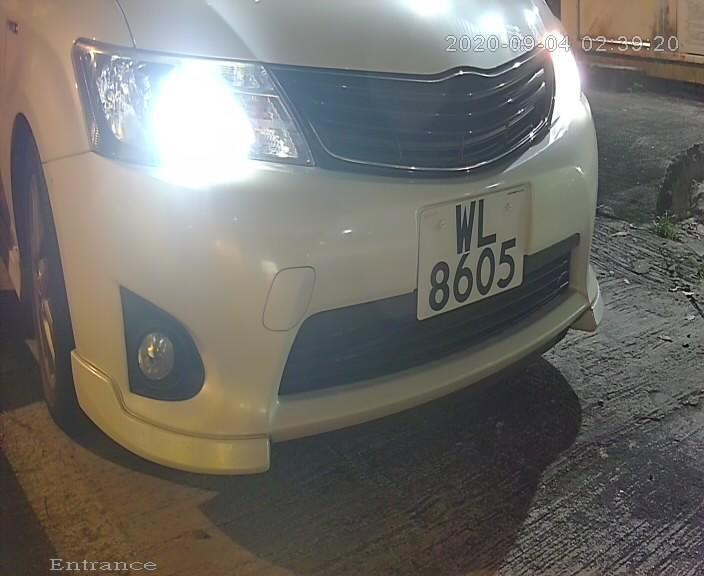License Plate: (406, 178, 532, 332)
